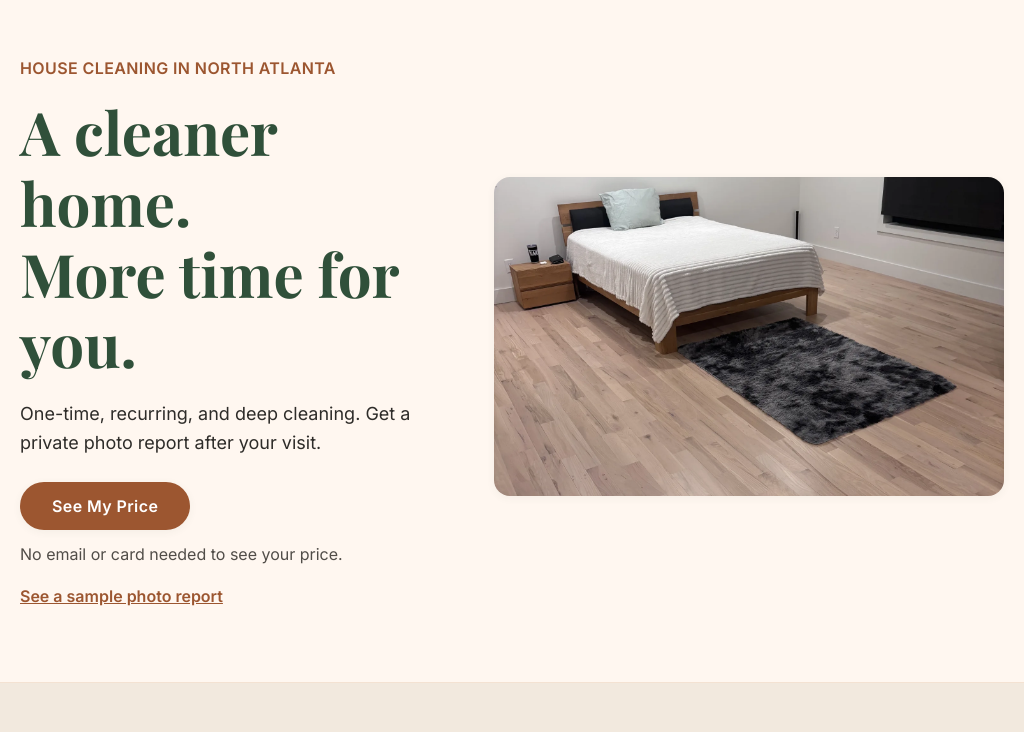
Scenario: fix8 — clarity: tier wording › uses one link to open the sample and returns focus when it closes
The image size is (1024, 732).
Click the link "See a sample photo report" at (121, 596), box 20,586 -> 223,606
(page scrolled)
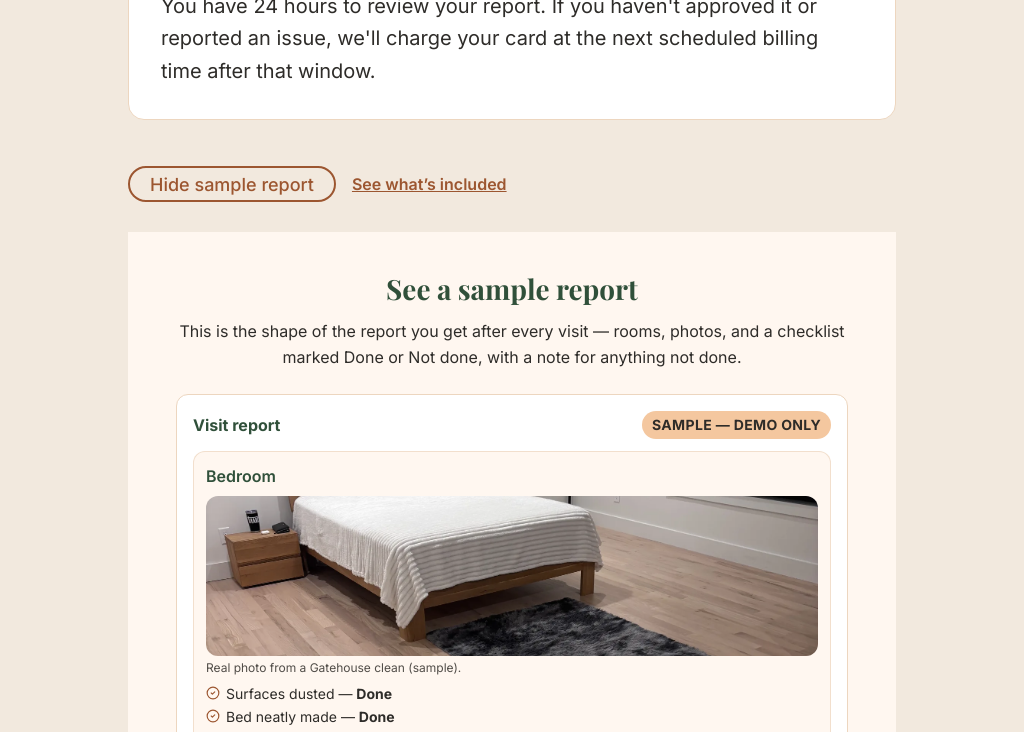
Expected: the text "SAMPLE — DEMO ONLY" is shown, 642,411 -> 831,439
Click the button "Hide sample report" at (232, 184), box 128,166 -> 336,202
(page scrolled)
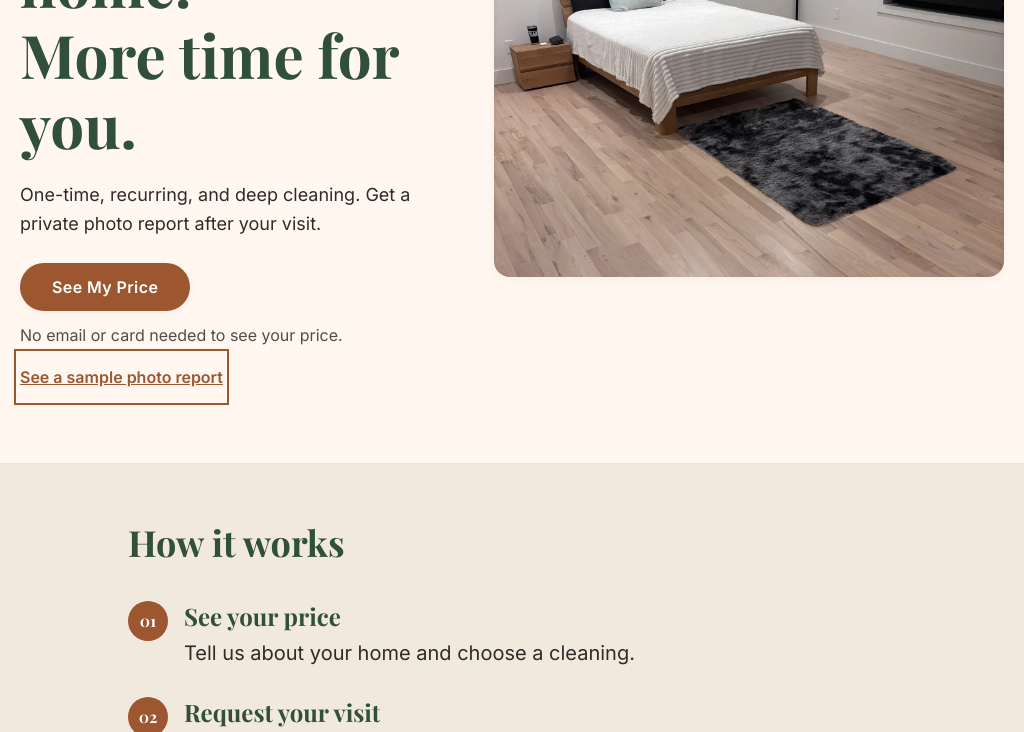
Expected: the link "See a sample photo report" is collapsed, 20,367 -> 223,387
Expected: the text "SAMPLE — DEMO ONLY" is gone
